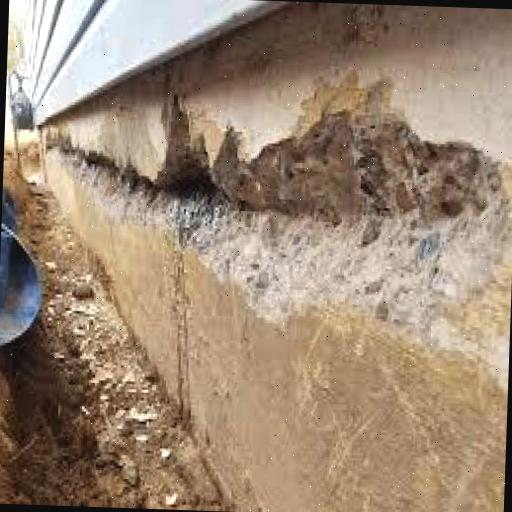spalling: (94, 96, 509, 313)
